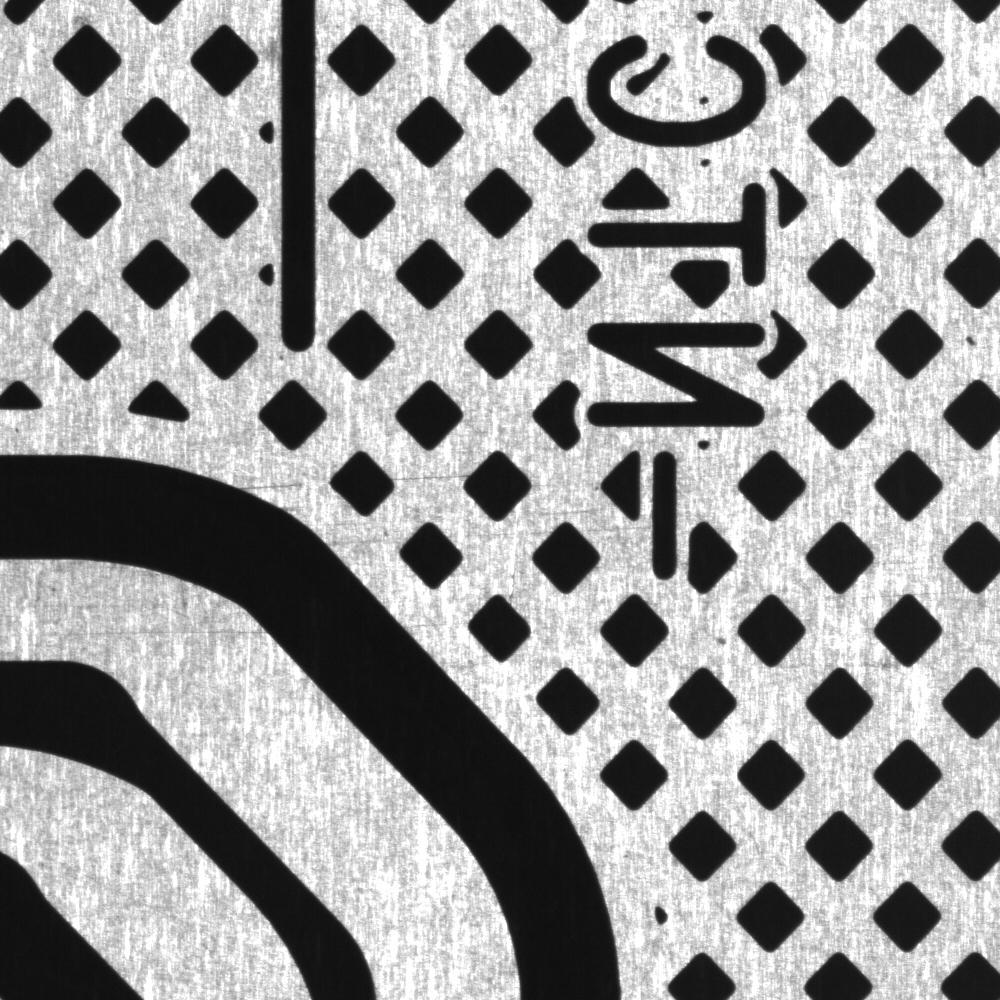Scar: (7, 825, 295, 977), (36, 615, 277, 658), (311, 512, 404, 552), (223, 466, 326, 500), (388, 467, 475, 492), (400, 609, 470, 639), (524, 502, 620, 521)
